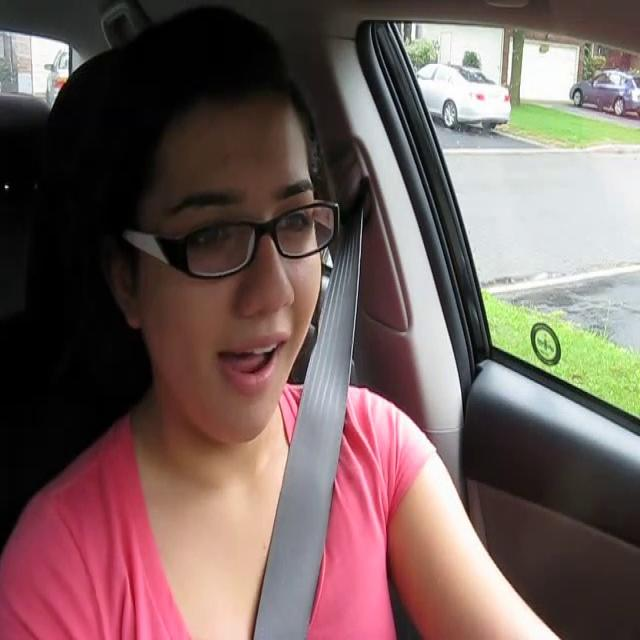open: (213, 328, 294, 400)
